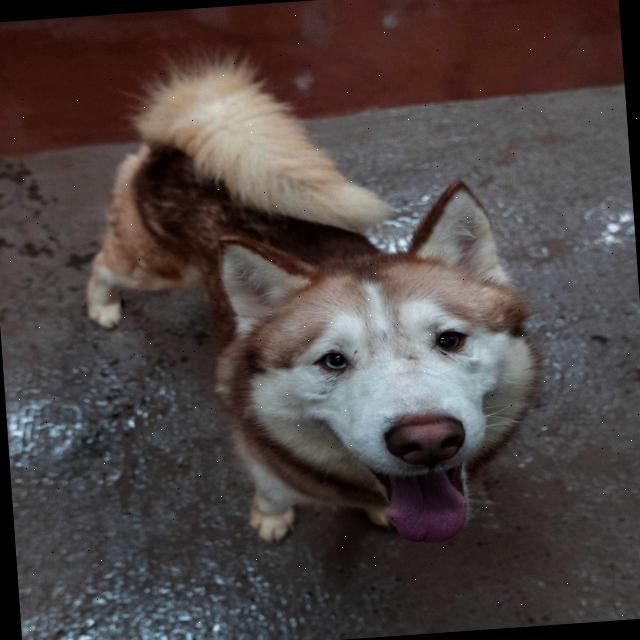siberian_husky_dog: (190, 164, 558, 570)
